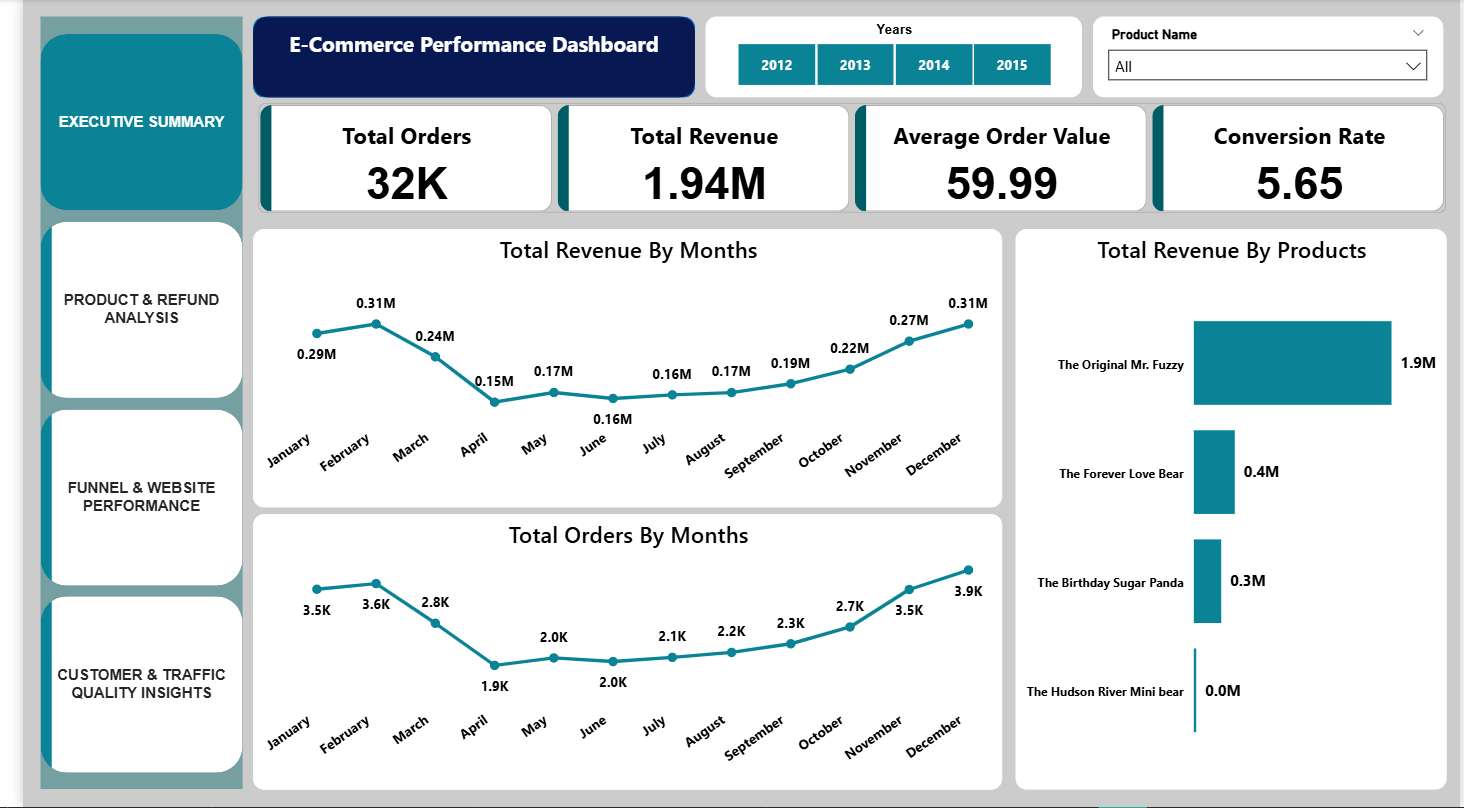

What the dashboard file says about the page in this screenshot:
{"tool":"powerbi","page":{"name":"EXECUTIVE SUMMARY","canvas":[1280,720],"ordinal":0},"visuals":[{"type":"cardVisual","fields":{"Data":["Sum(toy_store kpis.Total orders)","Sum(toy_store kpis.Total_Revenue)","Sum(toy_store kpis.Average order value)","Sum(toy_store conversion_rate.Conversion Rate)"]},"box":[204.9,88.3,1068.7,108],"z":0},{"type":"shape","box":[16,16,180.4,688.3],"z":1000},{"type":"clusteredBarChart","title":" Total Revenue By Products","fields":{"Category":["toy_store product_revenue.product_name"],"Y":["Sum(toy_store product_revenue.Total_Revenue)"]},"box":[883.4,204.9,384,499.4],"z":2000},{"type":"slicer","title":"Years","fields":{"Values":["toy_store monthly_revenue.Years"]},"box":[607.4,16,335,72.4],"z":3000},{"type":"slicer","fields":{"Values":["toy_store product_revenue.product_name"]},"box":[953.4,16,311.7,72.4],"z":4000},{"type":"lineChart","title":" Total Revenue By Months","fields":{"Y":["Sum(toy_store monthly_revenue.Total Revenue)"],"Category":["toy_store monthly_revenue.Months"]},"box":[204.9,204.9,667.5,247.9],"z":5000},{"type":"lineChart","title":" Total Orders By Months","fields":{"Y":["Sum(toy_store monthly_revenue.Total Orders)"],"Category":["toy_store monthly_revenue.Months"]},"box":[204.9,458.9,667.5,245.4],"z":6000},{"type":"shape","box":[204.9,16,393.9,72.4],"z":7000},{"type":"textbox","box":[204.9,15.9,393.9,72.1],"z":8000},{"type":"pageNavigator","box":[16,30.7,180.4,660.1],"z":9000}]}

Visuals, with their boxes in screenshot pixels (x1, y1, x2, y2), scaled from the page's 1280x720 canvas onto the 1464x808 screenshot:
cardVisual - Sum(toy_store kpis.Total orders) x Sum(toy_store kpis.Total_Revenue): bbox(234, 99, 1457, 220)
shape: bbox(18, 18, 225, 790)
" Total Revenue By Products" clusteredBarChart: bbox(1010, 230, 1450, 790)
"Years" slicer: bbox(695, 18, 1078, 99)
slicer - toy_store product_revenue.product_name: bbox(1090, 18, 1447, 99)
" Total Revenue By Months" lineChart: bbox(234, 230, 998, 508)
" Total Orders By Months" lineChart: bbox(234, 515, 998, 790)
shape: bbox(234, 18, 685, 99)
textbox: bbox(234, 18, 685, 99)
pageNavigator: bbox(18, 34, 225, 775)
